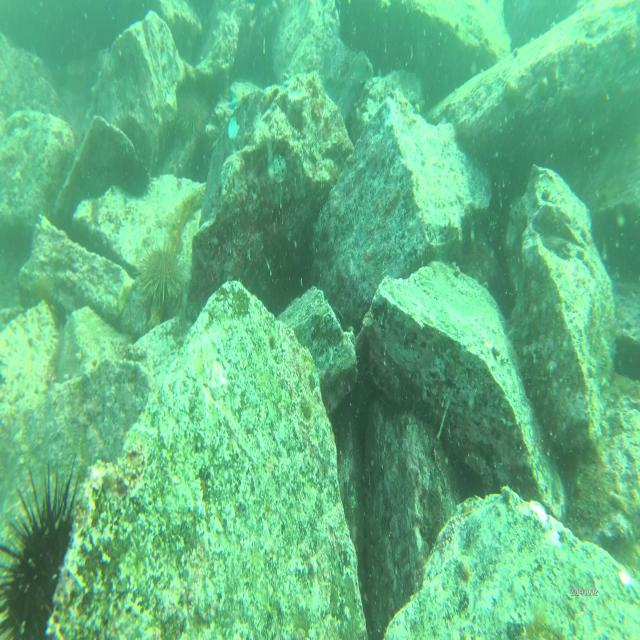echinus: (1, 456, 90, 636), (135, 237, 187, 300), (120, 155, 156, 201), (175, 88, 205, 136)
starfish: (226, 82, 257, 108)
